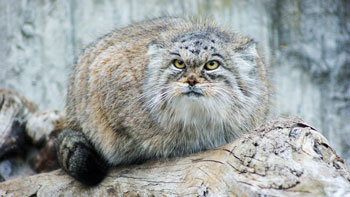cat: (53, 9, 296, 191)
